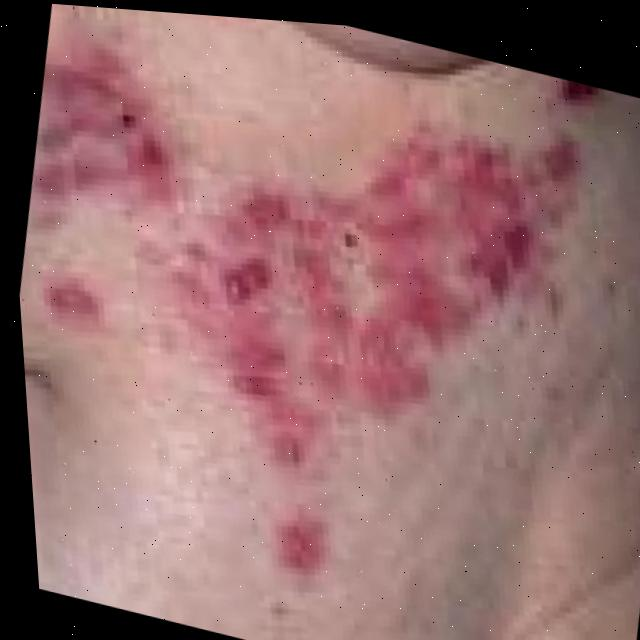Shingles: (1, 20, 610, 628), (556, 78, 602, 109)
